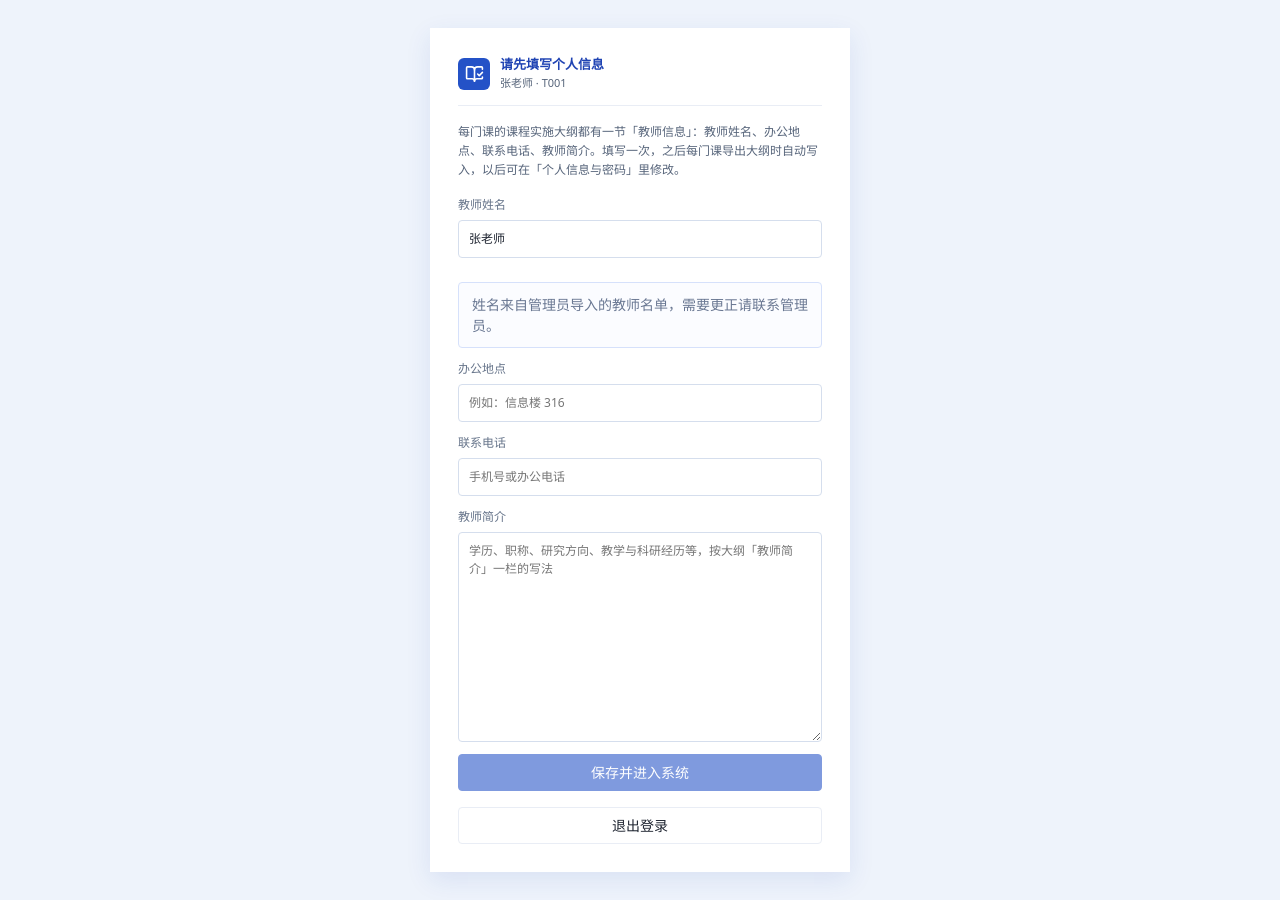
Scenario: App › keeps a teacher on the profile form until office, phone and biography are filled
Check: the heading "请先填写个人信息" is shown, box [500,56,604,73]
Check: the button "教师工作台" is not shown
Type "信息楼316" into the field labelled "办公地点".
click(640, 403); type("信息楼316")  # box [458,384,822,422]
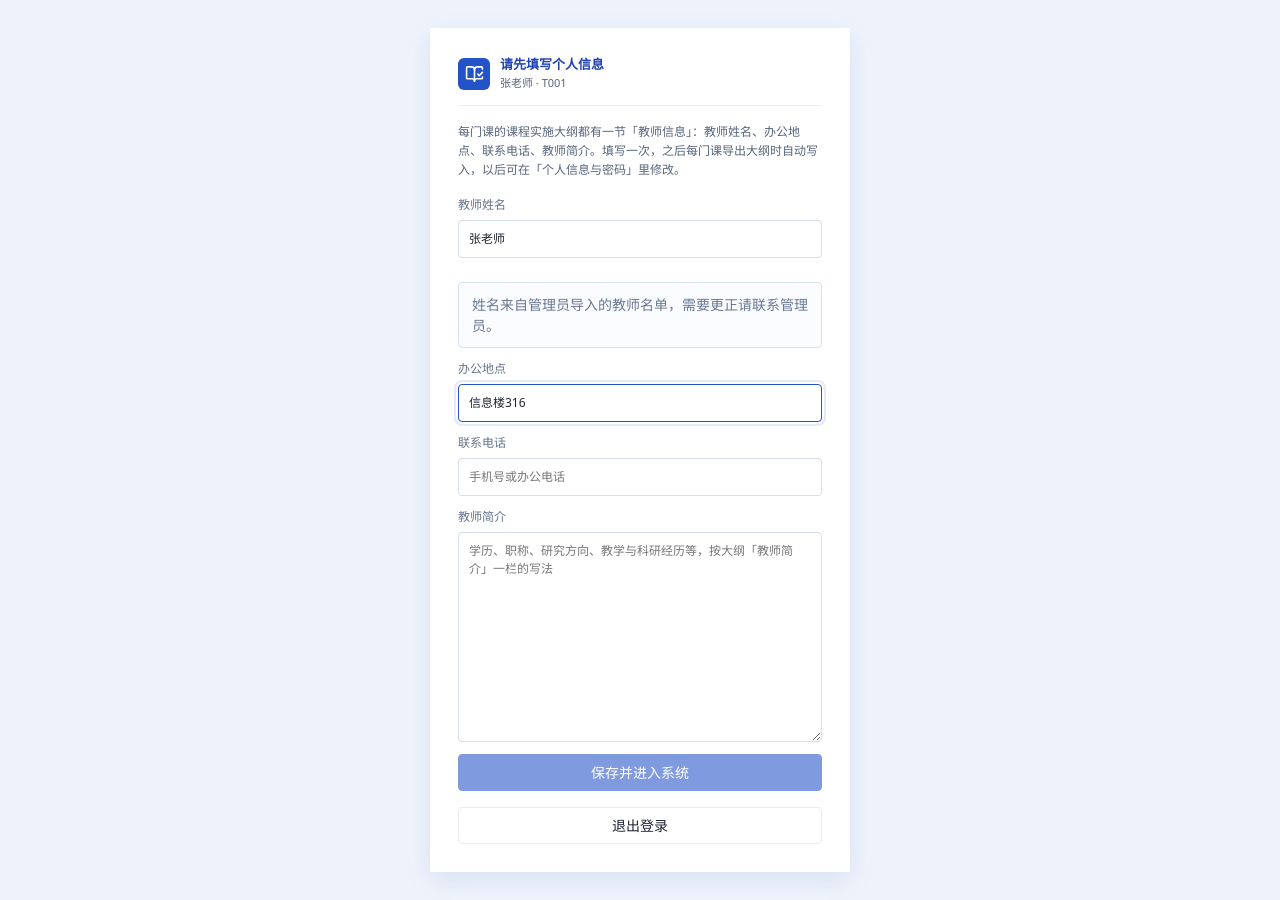
Type "13800000000" into the field labelled "联系电话".
click(640, 477); type("13800000000")  # box [458,458,822,496]
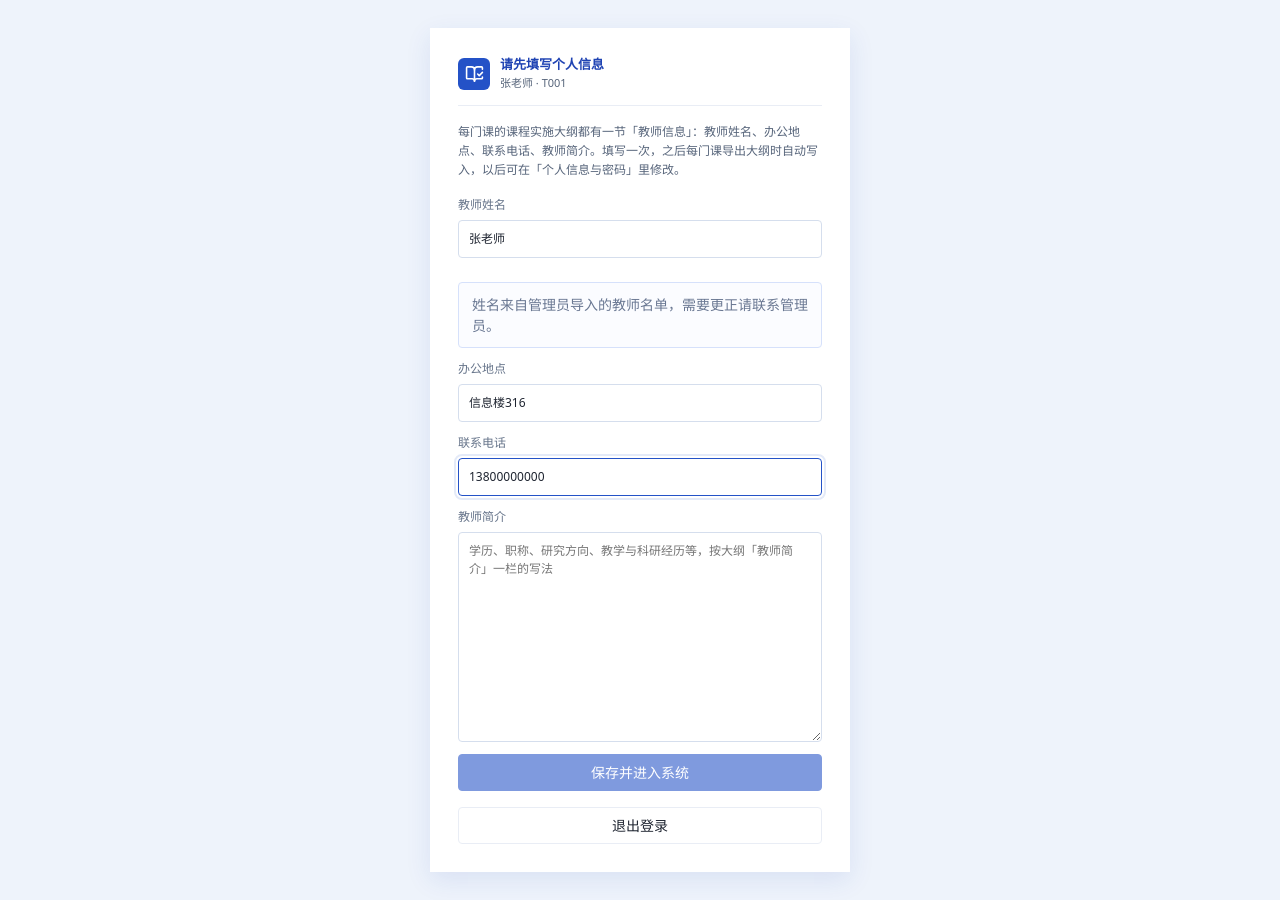
Check: the button "保存并进入系统" is disabled, box [458,754,822,791]
Type "讲师，研究方向为数字媒体。" into the text box labelled "教师简介".
click(640, 637); type("讲师，研究方向为数字媒体。")  # box [458,532,822,742]
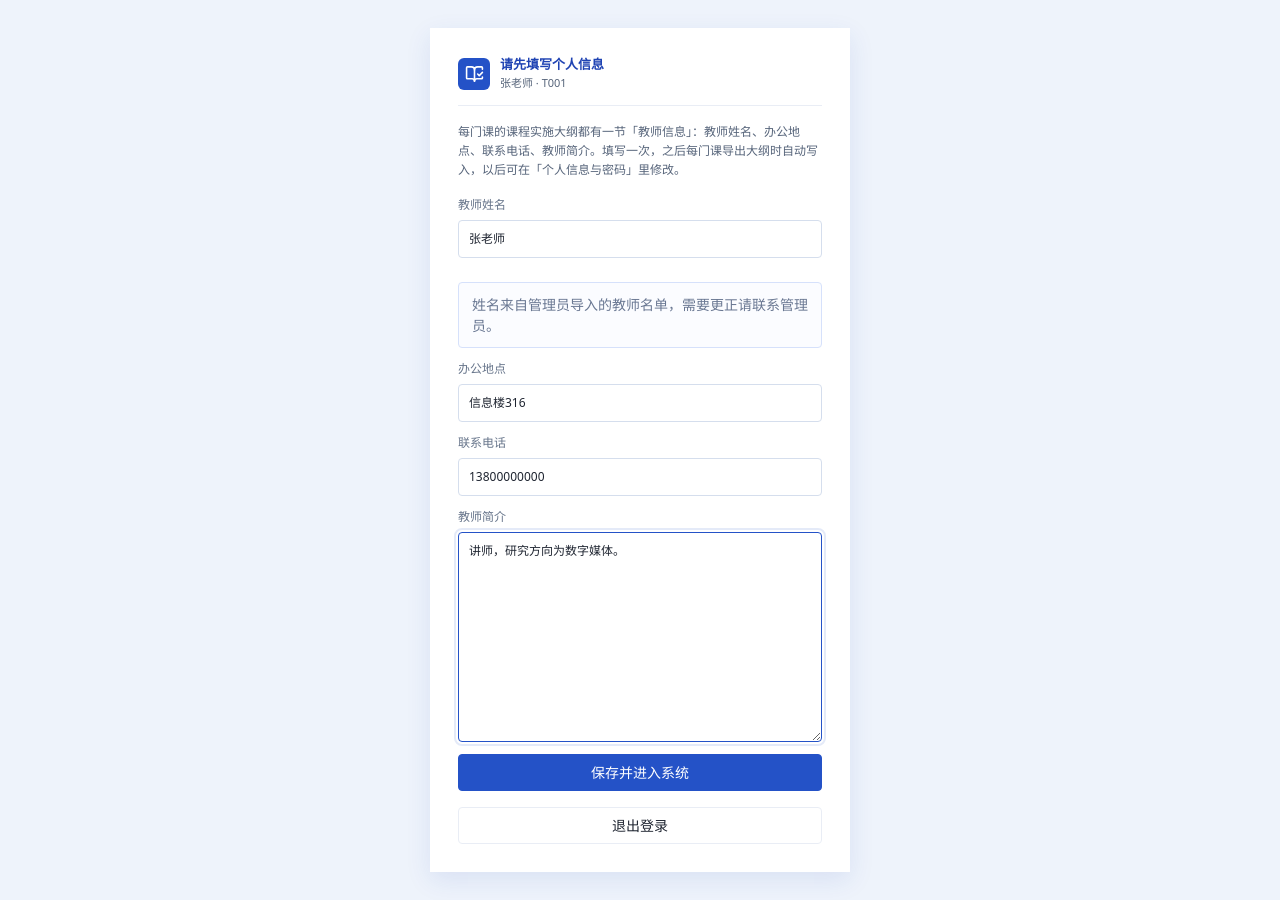
Click the button "保存并进入系统".
click(640, 772)  # box [458,754,822,791]
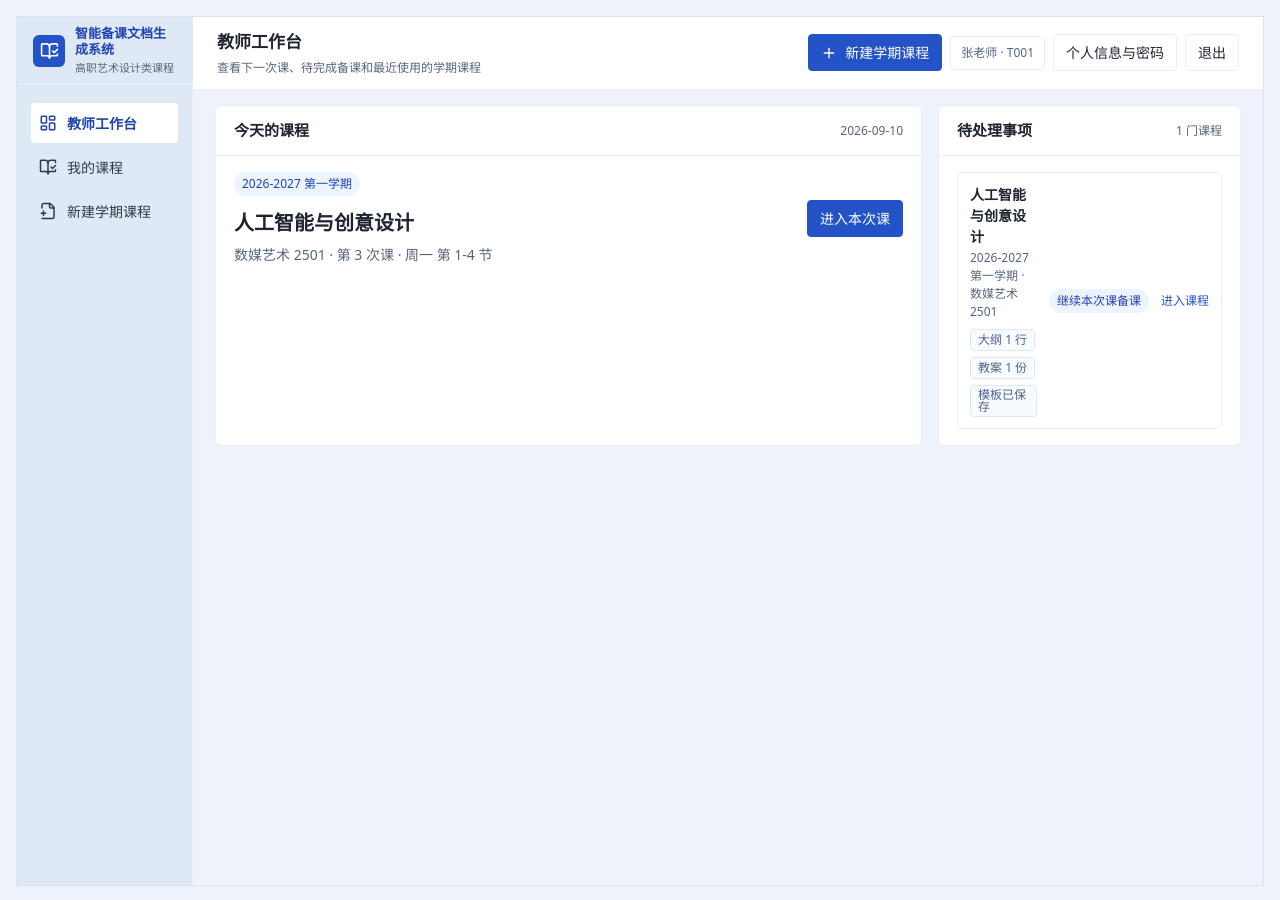
Check: the button "教师工作台" is shown, box [31,103,178,143]
